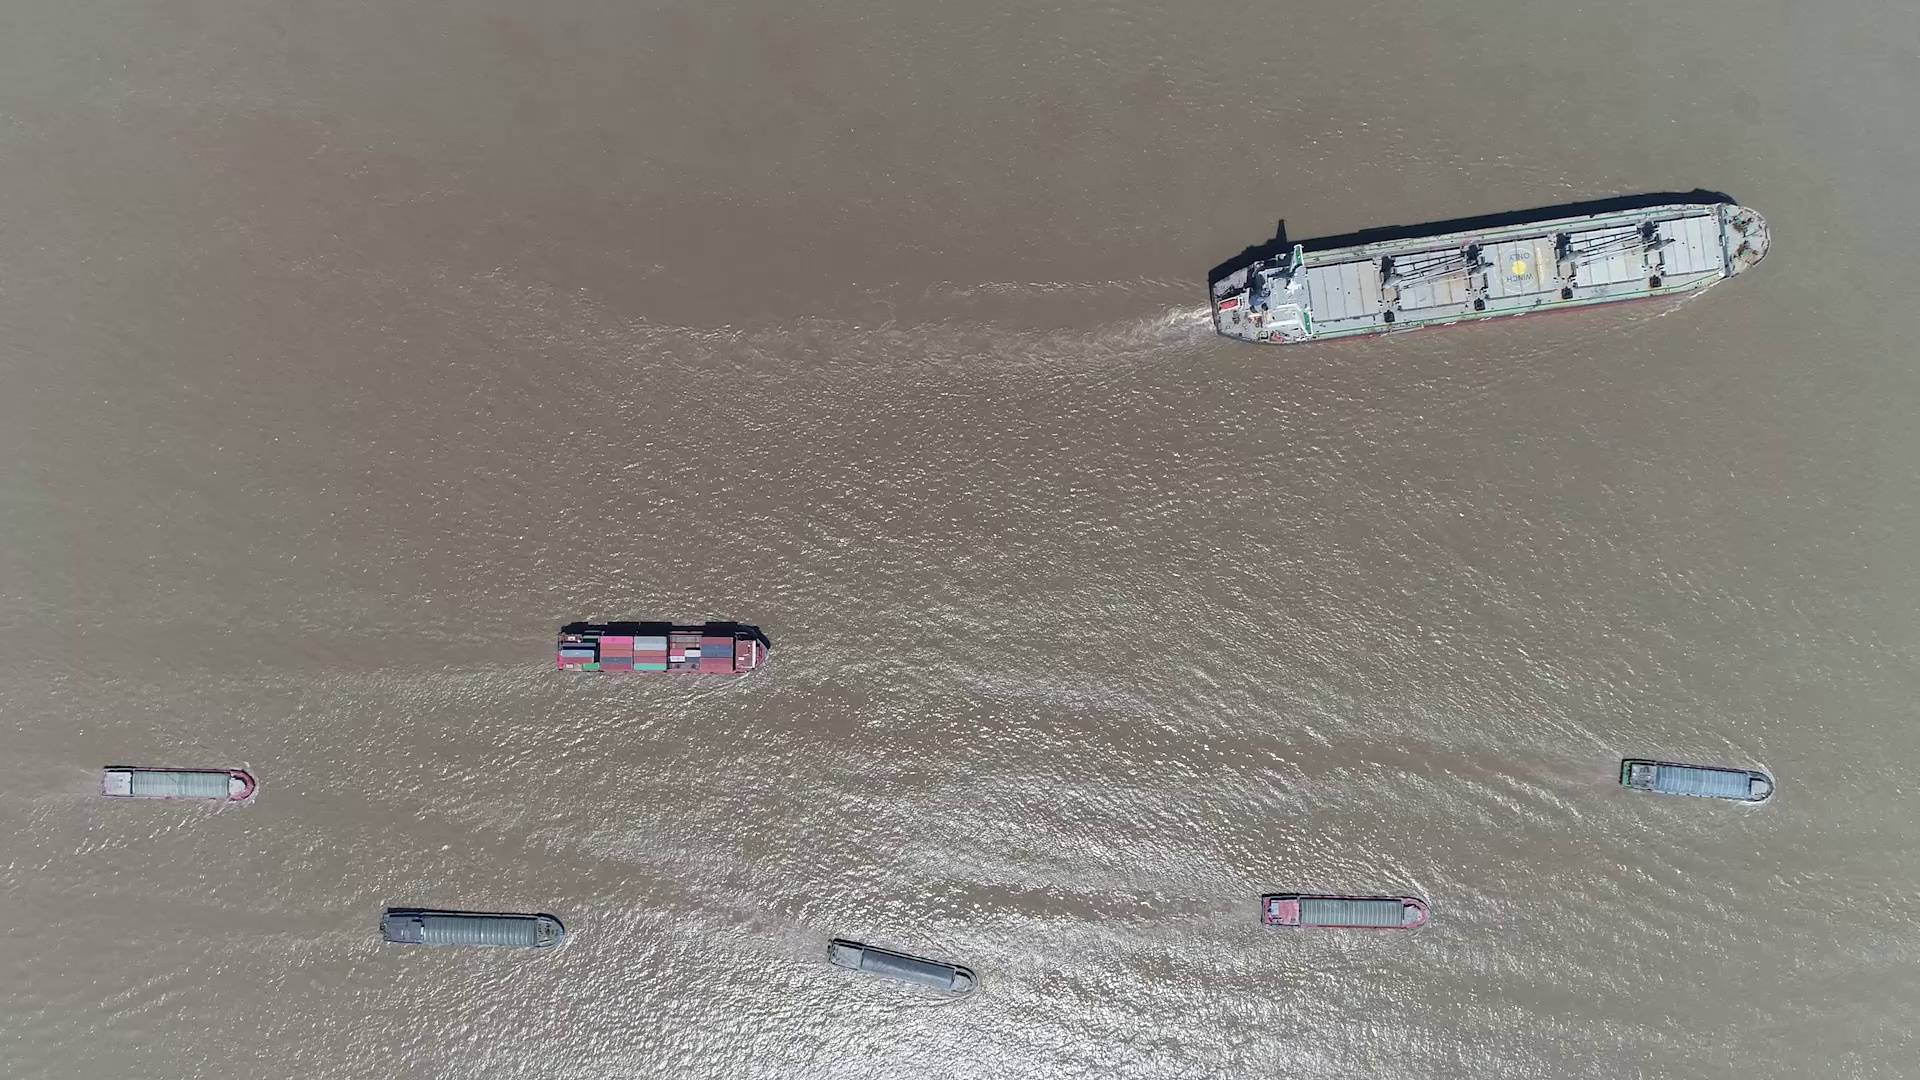ship: (1209, 200, 1768, 343), (556, 625, 771, 676), (827, 939, 975, 992), (380, 907, 562, 948), (1619, 757, 1774, 800), (1261, 891, 1428, 930), (100, 766, 253, 803)
